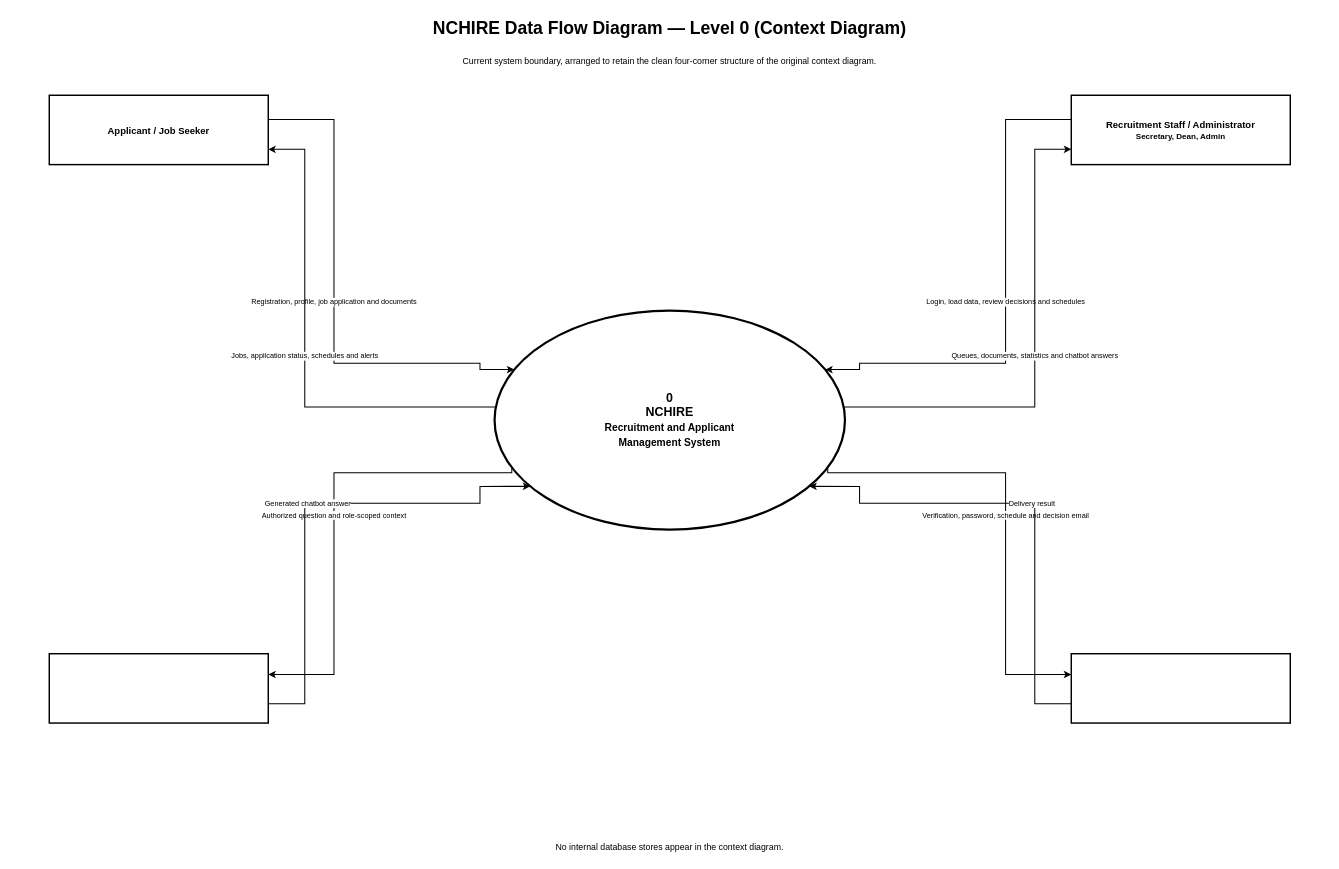
Some shapes in this 1339 by 869 pixel diagram are drawn without their labels. Each missing label, with the centre of its shape:
"Groq Language Model API Recruitment chatbot only" belongs at (x=158, y=688).
"SMTP Email Service PHPMailer / Gmail SMTP" belongs at (x=1180, y=688).
